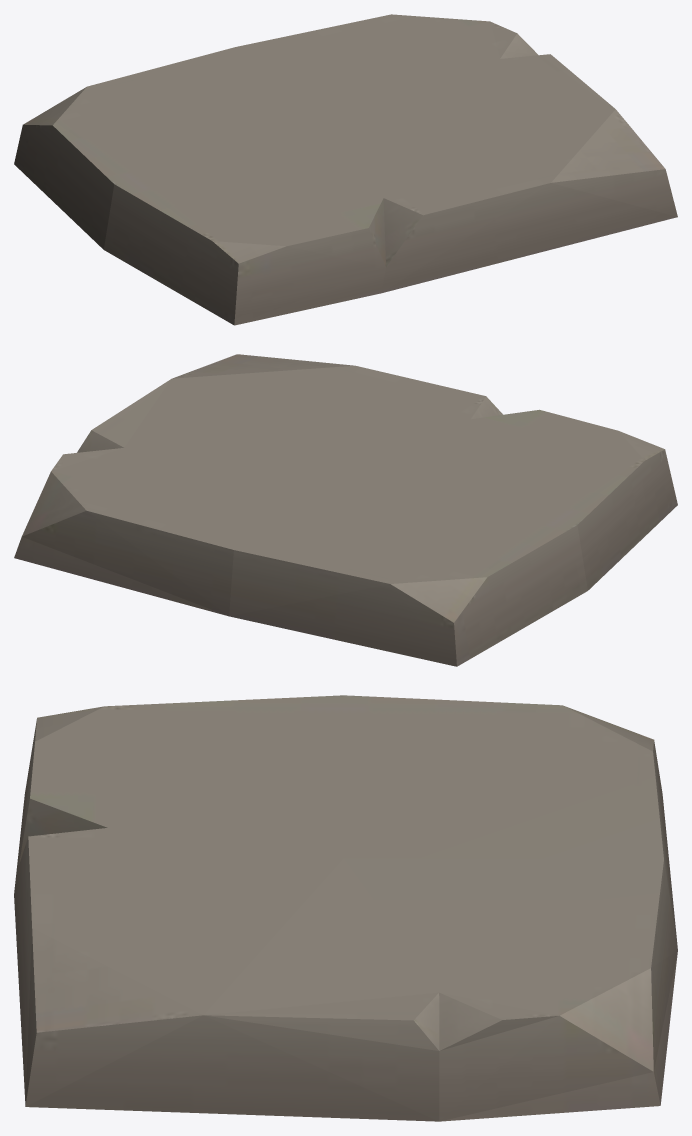
The model's file is stone_step.glb.
3 renders of one model, top to bottom at view 1: azimuth 30°, elevation 25°; view 2: azimuth 150°, elevation 25°; view 3: azimuth 270°, elevation 25°, orthographic. The views are drawn at different scales.
Visible parts, largest first — view 1: stone_step; view 2: stone_step; view 3: stone_step.
Part boxes in pixels (x1,y1,x2,y2): stone_step: [14, 14, 677, 325]; stone_step: [14, 354, 677, 666]; stone_step: [14, 695, 677, 1121].
Size of the model in its own units: 0.72 by 0.09 by 0.59.
Materials: 1 (1 with a texture image).
